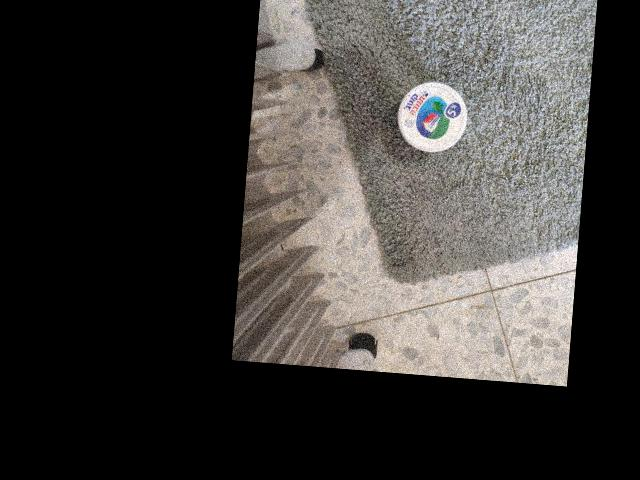cotage: (393, 82, 470, 157)
